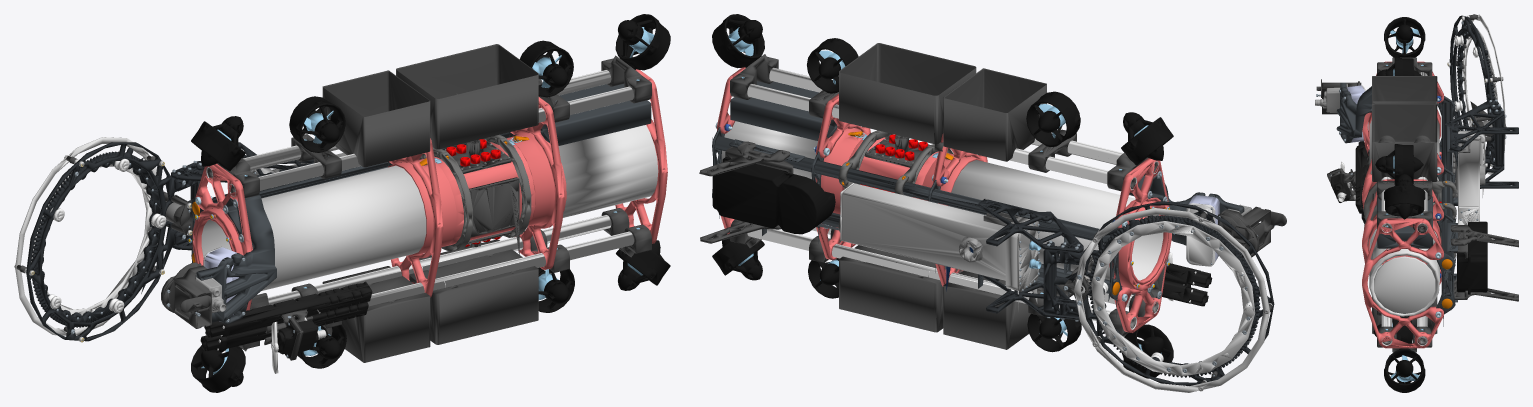
Rendered from KingfisherCoarseNoInsides.obj.
3 renders of one model, left to right at view 1: azimuth 30°, elevation 25°; view 2: azimuth 150°, elevation 25°; view 3: azimuth 270°, elevation 25°, orthographic. The views are drawn at different scales.
Bounding box in the file's own units: 1.28 × 0.5377 × 0.4751.
